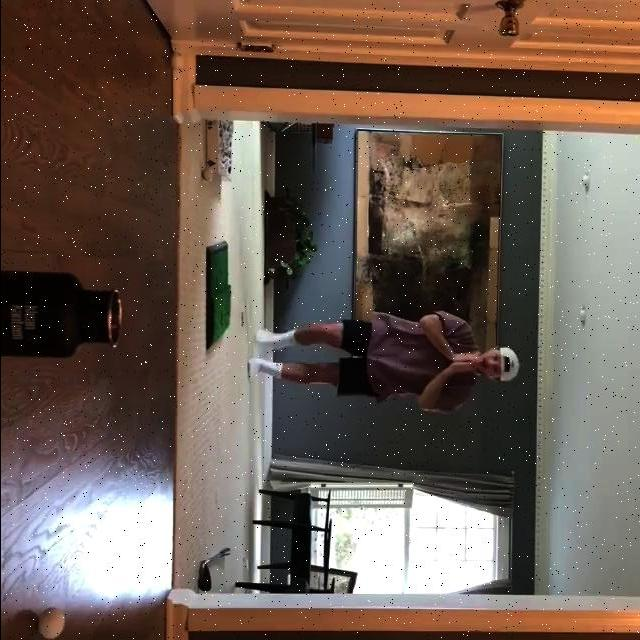golf ball: (36, 605, 63, 638), (169, 52, 183, 73), (200, 167, 214, 183)
golf club-handle: (194, 546, 231, 595)
golf club-head: (196, 563, 210, 592)
